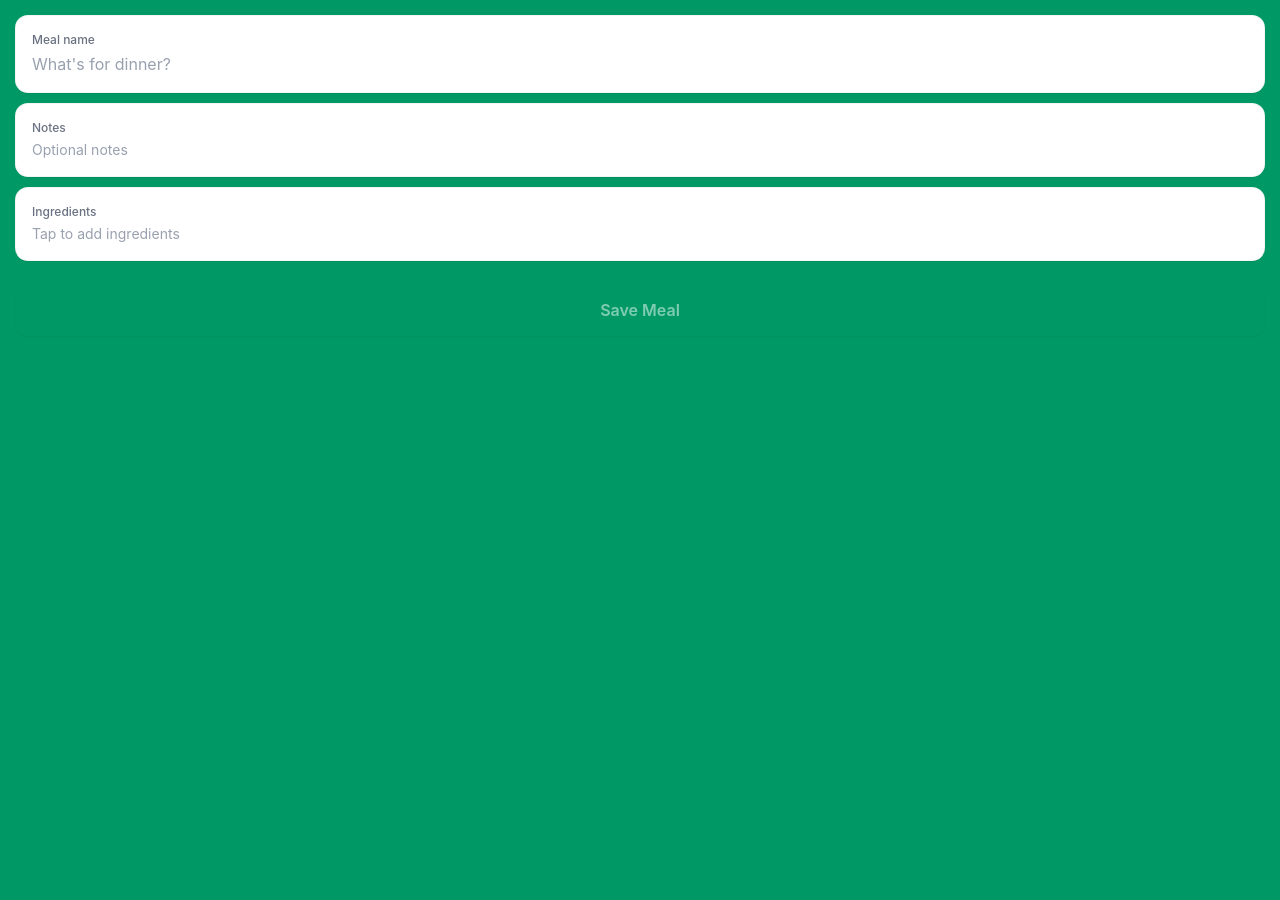
Scenario: AddMealView › opens notes tray when notes field is tapped
Step 1. Click the button with test id "notes-field" → (49, 128), box [16, 104, 1264, 176]
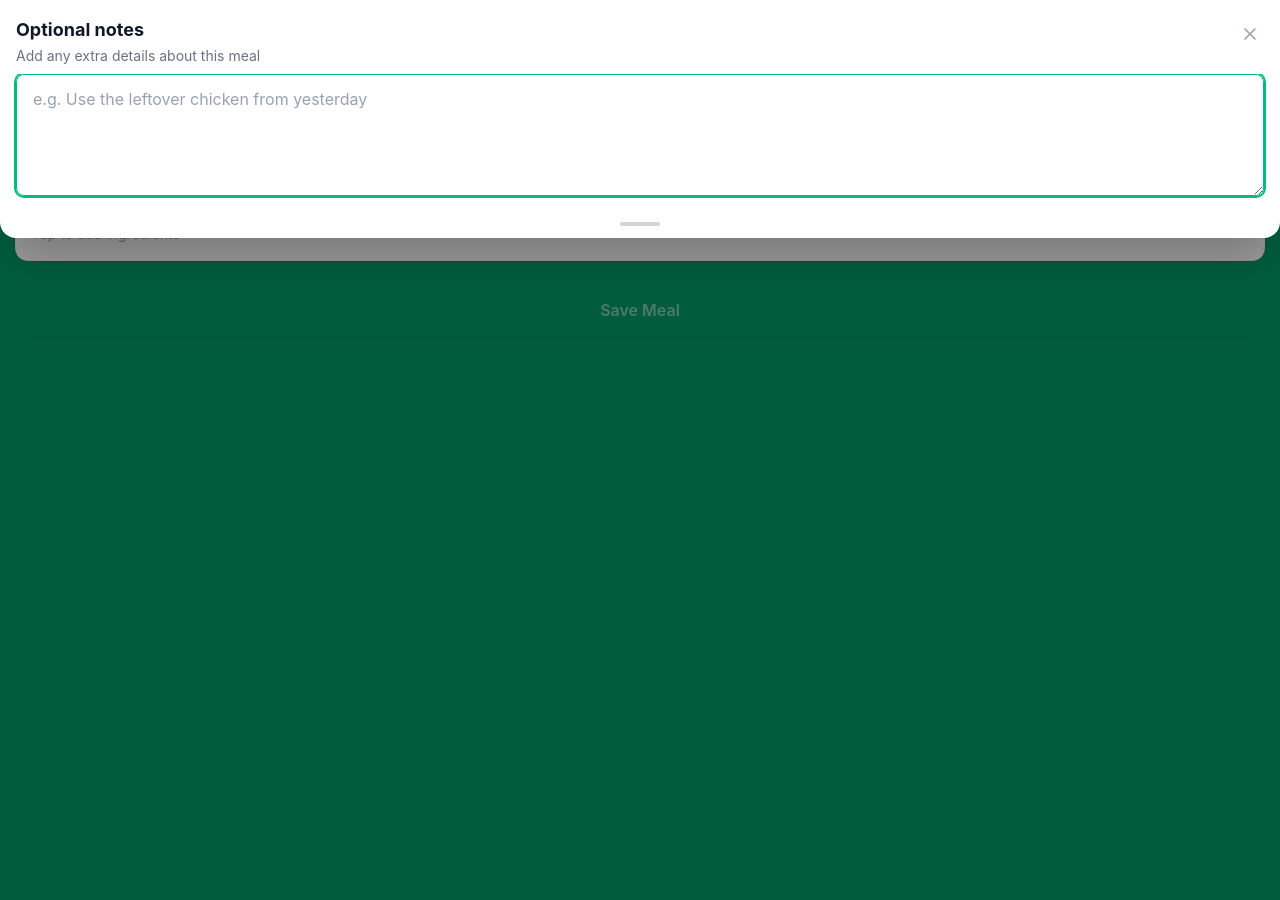
expect the text box with test id "meal-notes-input" is shown: met, box [16, 74, 1264, 196]
expect the text "Add any extra details about this meal" is shown: met, box [16, 47, 260, 64]
